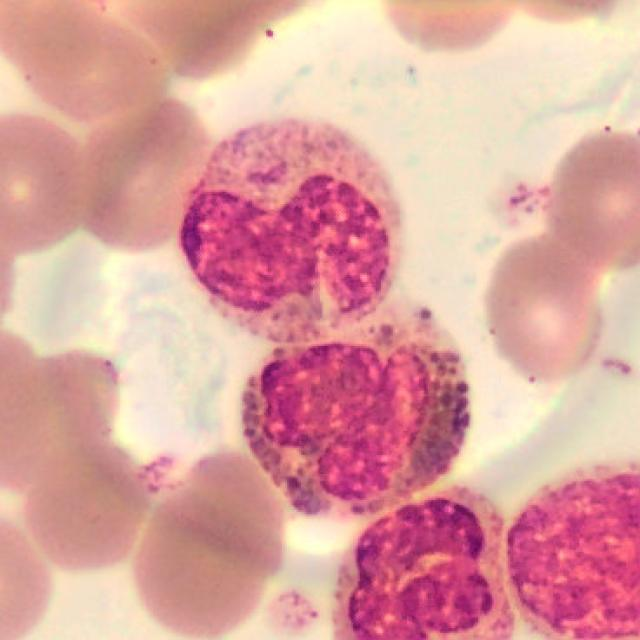Bastonete: (341, 493, 515, 640)
Eosinofilo: (245, 298, 471, 521)
Metamielocito: (177, 119, 402, 348)
